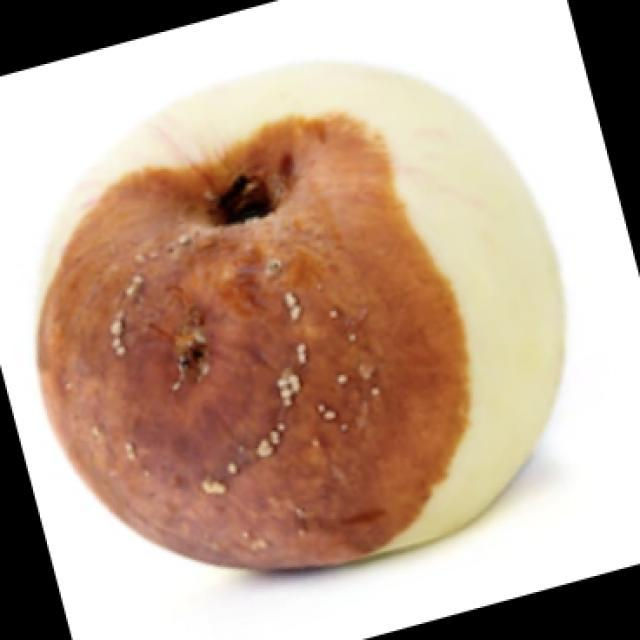Rotten: (30, 65, 558, 560)
